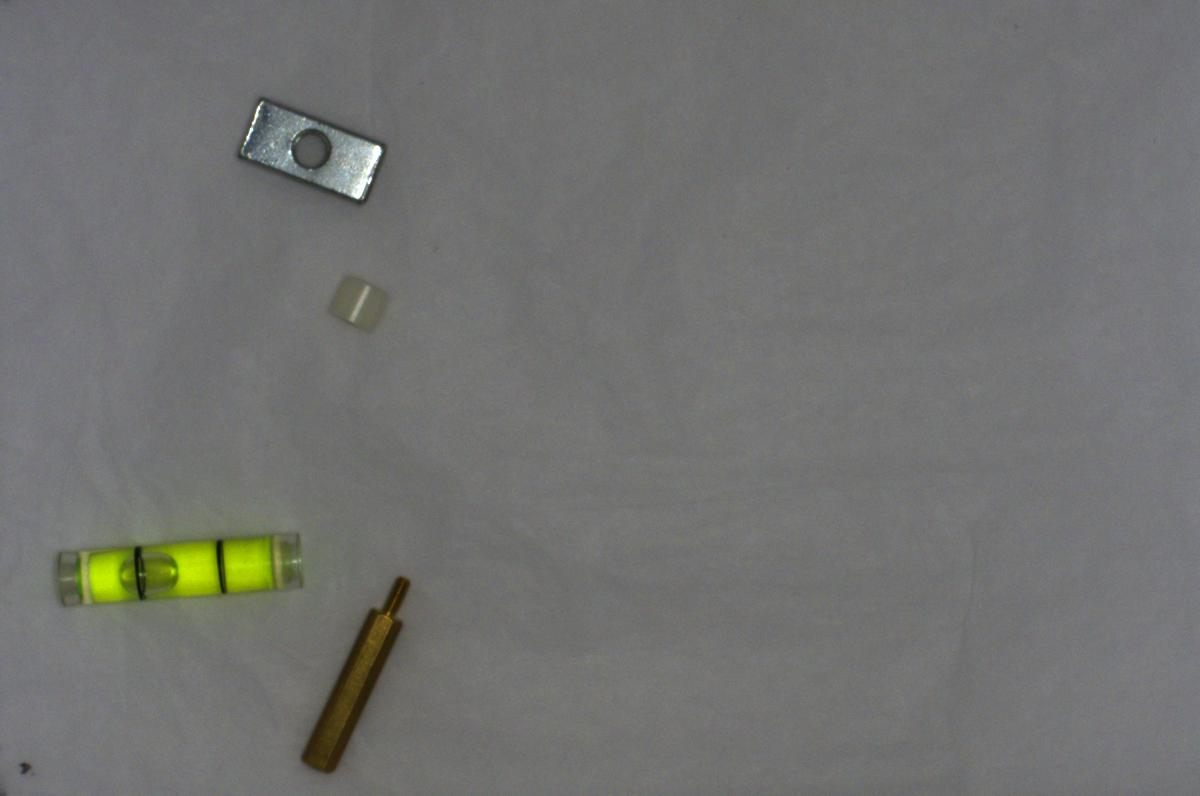Hexagon pillar: (299, 570, 418, 774)
Horizontal bubble: (41, 525, 310, 612)
Plastic cushion pillar: (322, 273, 394, 333)
Rectangular nut: (234, 90, 385, 210)
